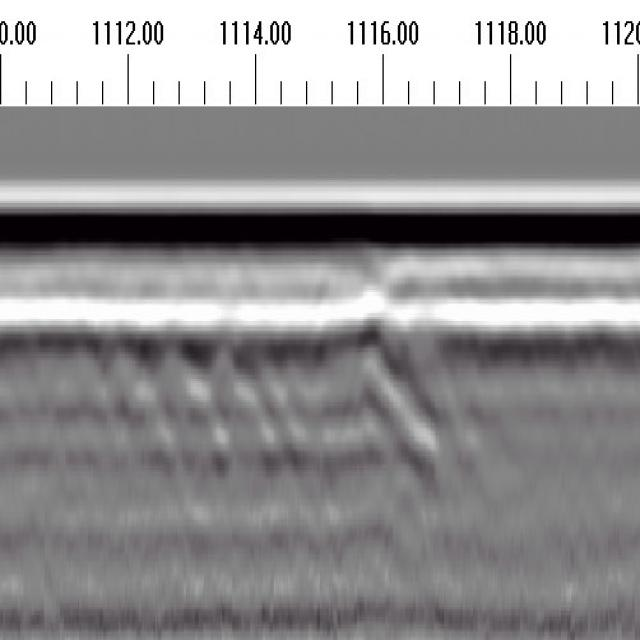loose: (121, 303, 445, 479)
